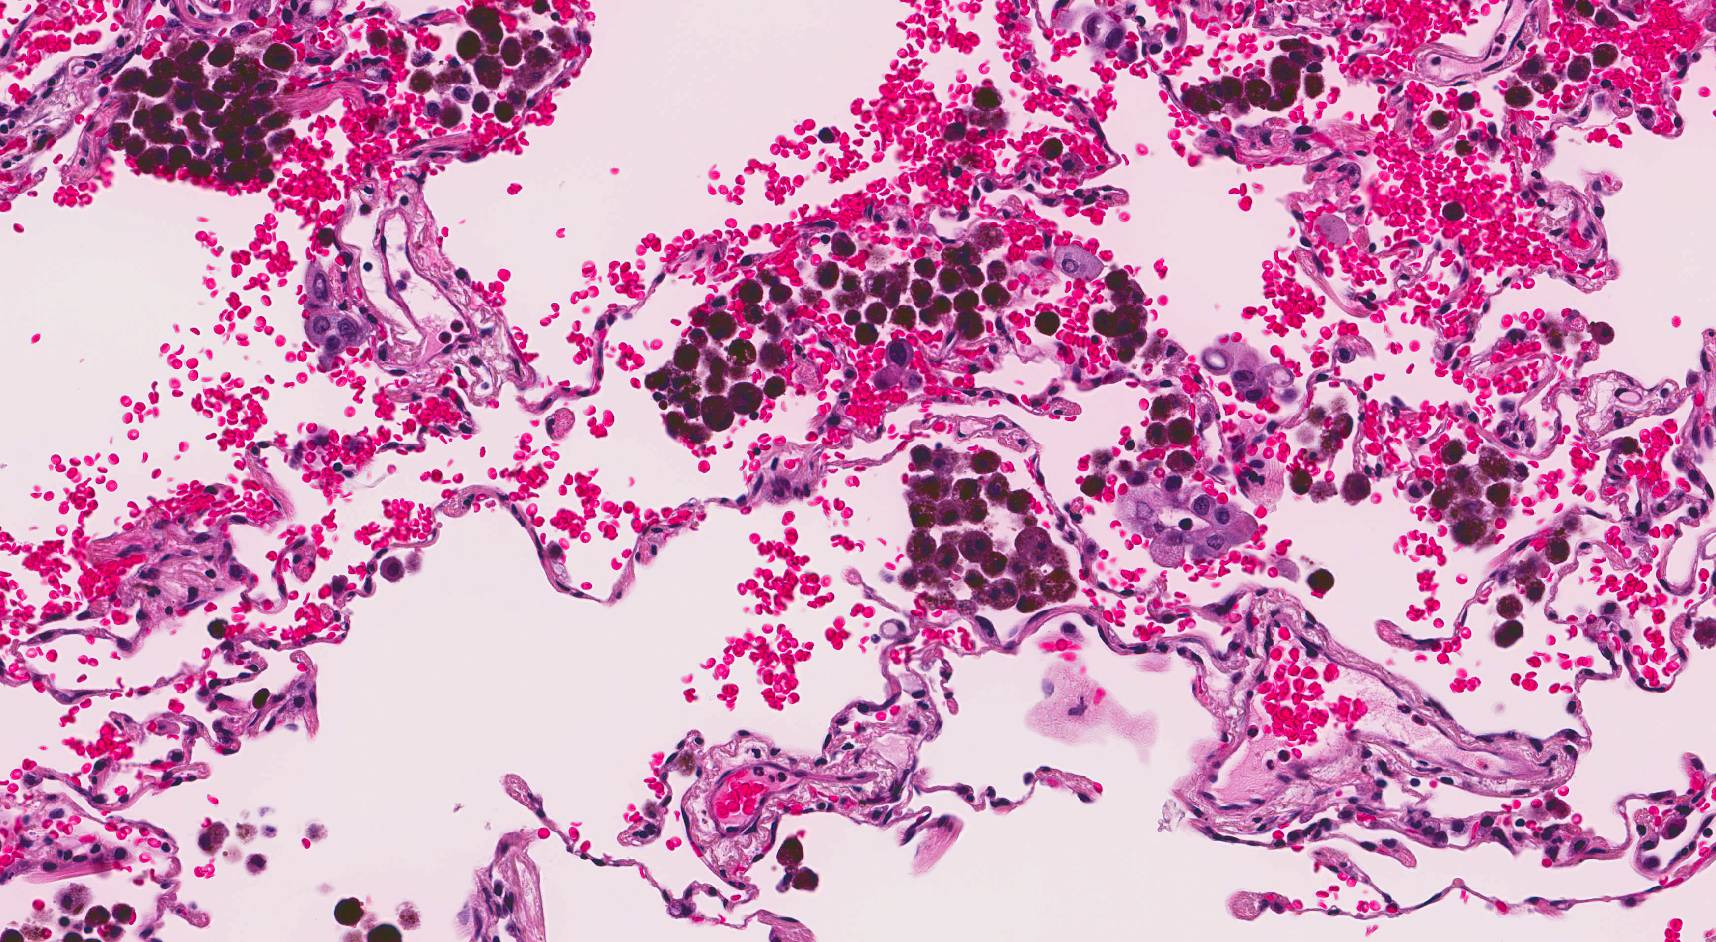stas: (1118, 480, 1262, 568), (295, 257, 365, 366), (866, 338, 924, 396)
